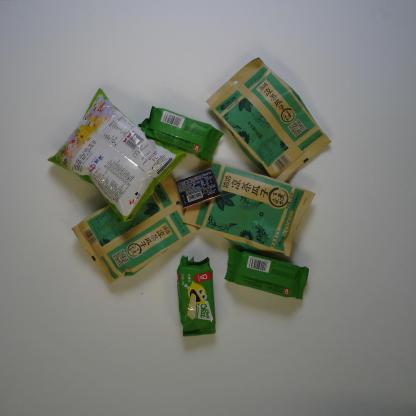Dessert: (136, 105, 224, 163), (222, 247, 310, 300), (176, 254, 217, 338)
Dried Food: (205, 56, 333, 183), (70, 174, 202, 286), (182, 158, 316, 258)
Gum: (174, 167, 223, 210)
Puffed Food: (47, 87, 188, 224)
